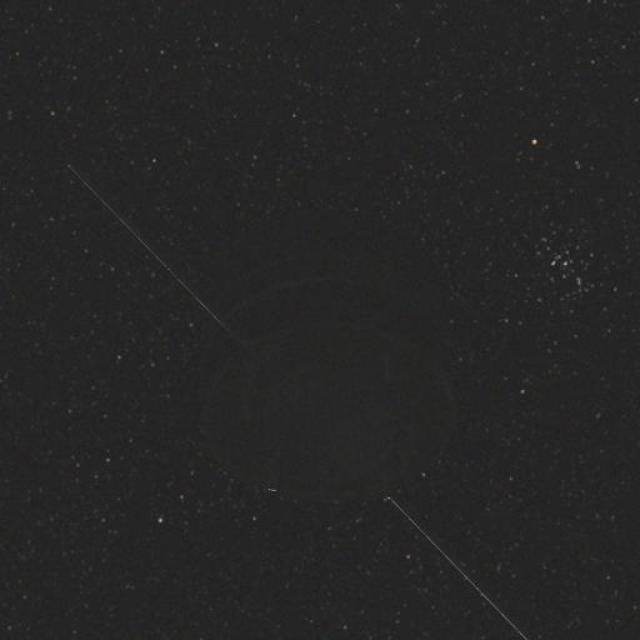double_start: (146, 238, 448, 511)
